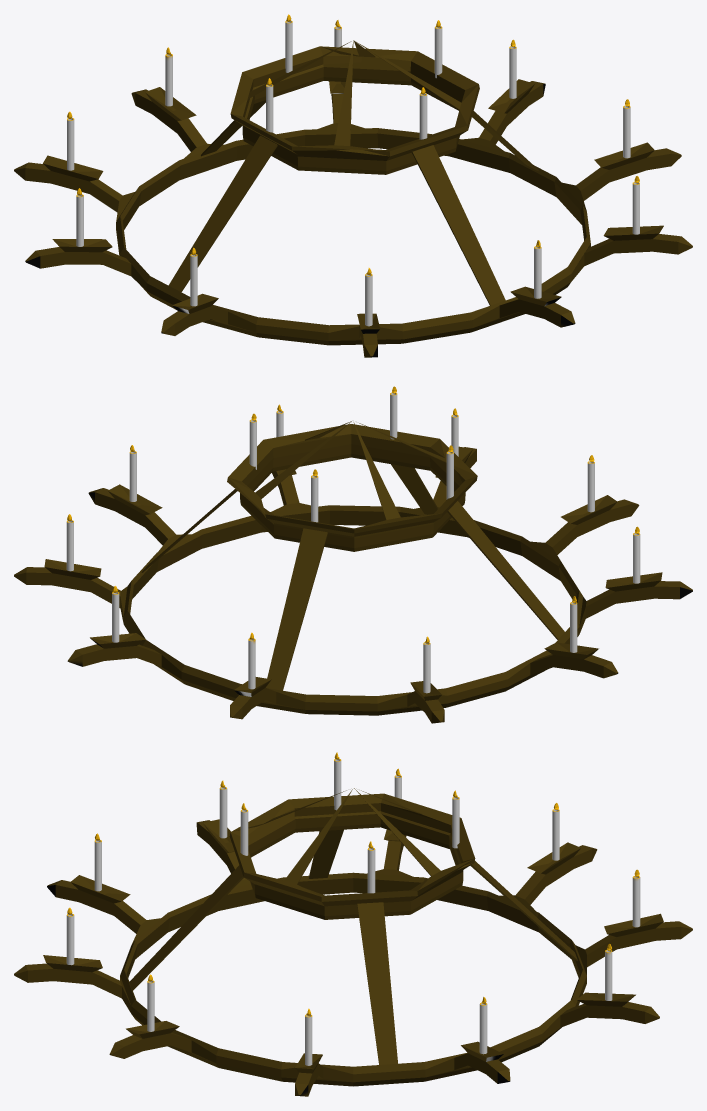
Rendered from chandelier.fbx.
3 views of the same model, one above another, from view 1: azimuth 30°, elevation 25°; view 2: azimuth 150°, elevation 25°; view 3: azimuth 270°, elevation 25° (orthographic). The views are drawn at different scales.
Visible parts, largest first — view 1: polySurface2; view 2: polySurface2; view 3: polySurface2.
Part boxes in pixels (x1,y1,x2,y2): polySurface2: (14,14,692,357); polySurface2: (14,386,692,723); polySurface2: (14,752,692,1096).
Size of the model in its own units: 240 by 78.9 by 240.
